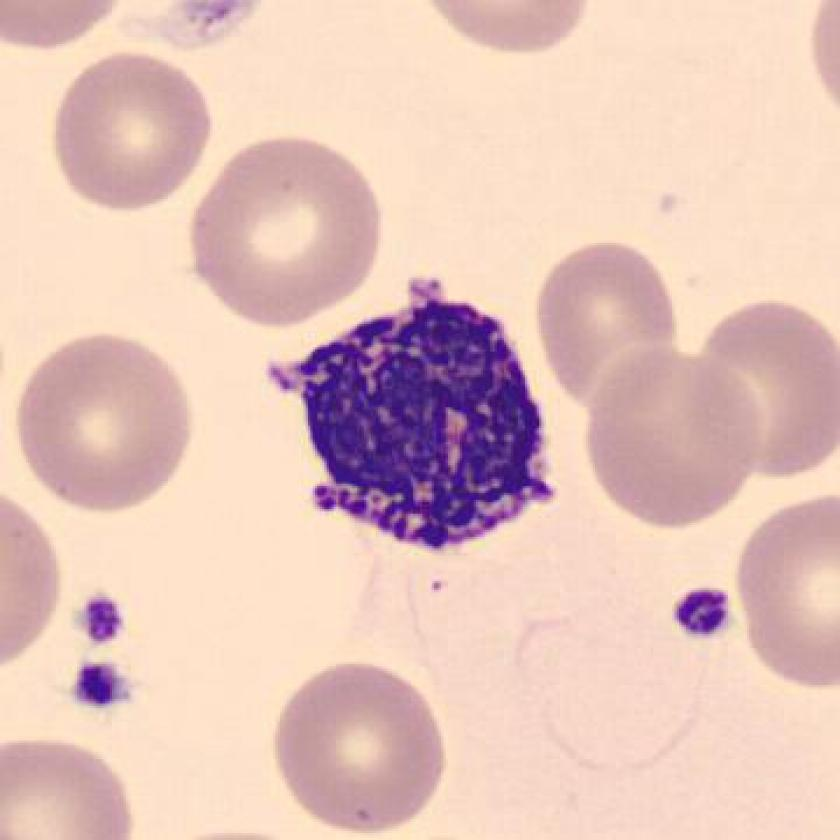basophil: (276, 279, 559, 554)
